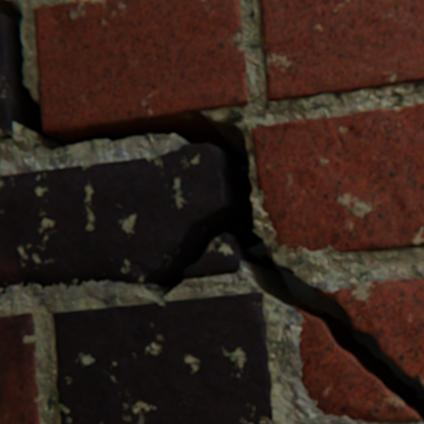brick: (54, 292, 273, 423), (36, 0, 247, 133), (253, 104, 423, 252), (261, 0, 423, 102), (0, 313, 41, 423), (0, 16, 14, 139)
broken_brick: (0, 144, 225, 293), (299, 314, 421, 421), (322, 278, 423, 387), (184, 233, 240, 278)
crack: (0, 0, 423, 423)
